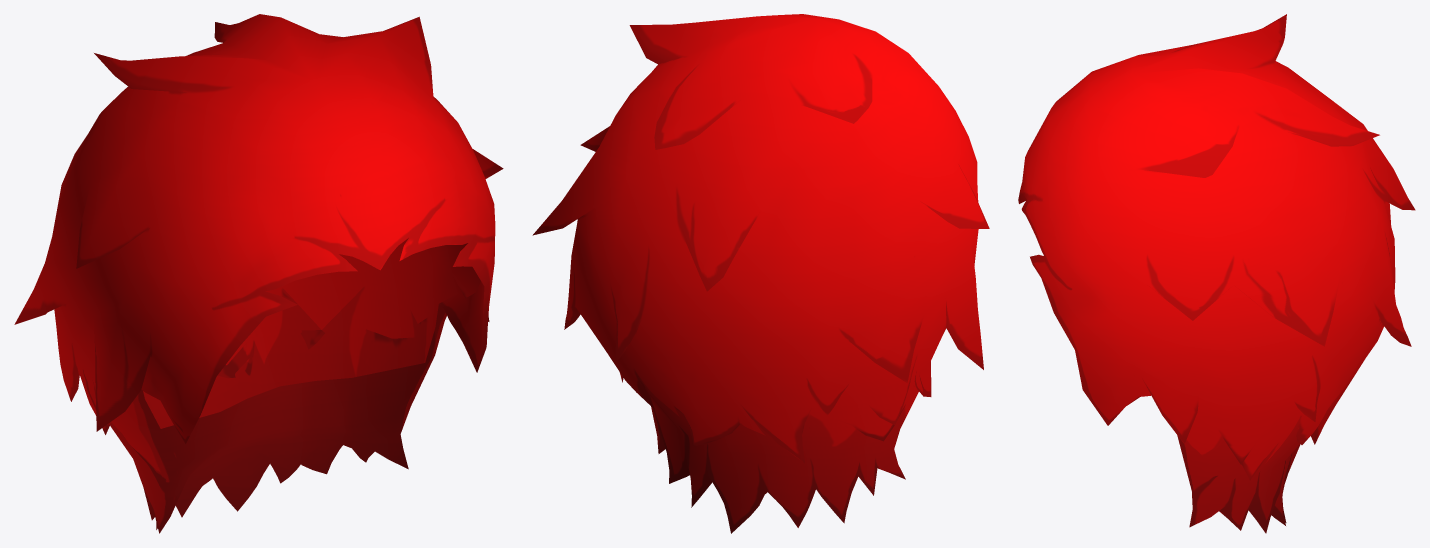
File: HairBack_MessyHair.fbx
3 renders of one model, left to right at view 1: azimuth 30°, elevation 25°; view 2: azimuth 150°, elevation 25°; view 3: azimuth 270°, elevation 25°, orthographic. The views are drawn at different scales.
Parts seen in each view (by area): view 1: HairBack_MessyHair; view 2: HairBack_MessyHair; view 3: HairBack_MessyHair.
Boxes of the visible parts, <box> form: HairBack_MessyHair: <box>14,14,503,533</box>; HairBack_MessyHair: <box>532,14,989,533</box>; HairBack_MessyHair: <box>1018,14,1415,533</box>.
Bounding box in the file's own units: 29.01 × 32.39 × 25.45.
1 material, 1 textured.
